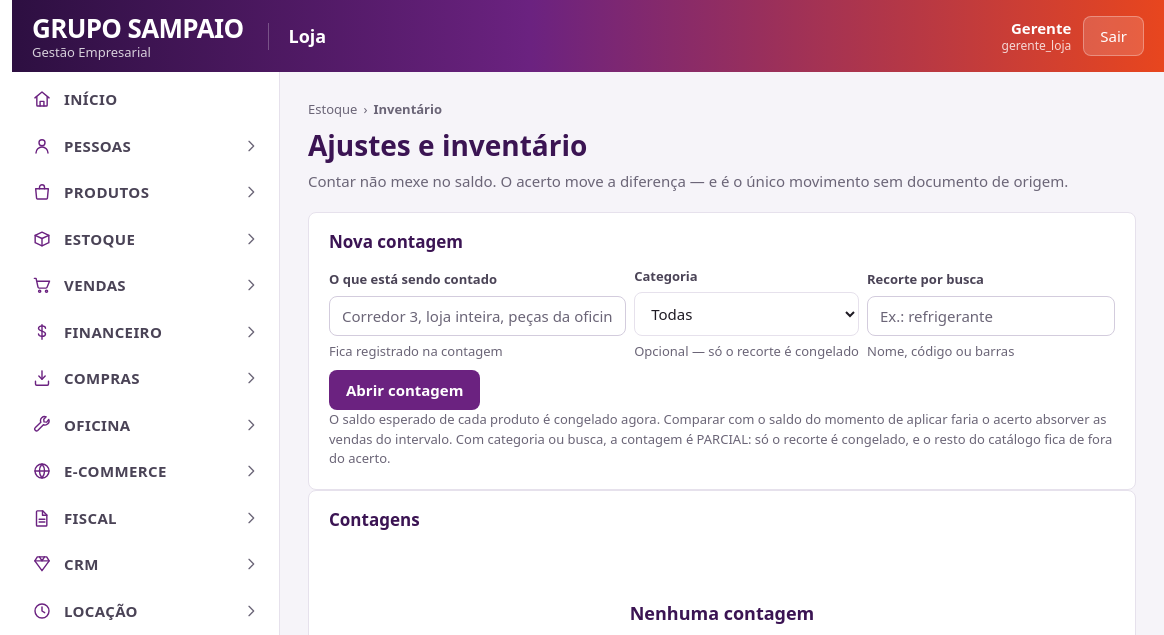
Test: a abertura envia o recorte › categoria e busca viajam no corpo — e a contagem volta só com o recorte
This screenshot has width=1164, height=635.
Expected: the heading "Nova contagem" is shown, x1=329 y1=229 x2=463 y2=254
Select "Bebidas" in the dropdown labelled "Categoria" at (747, 314), box x1=634 y1=292 x2=859 y2=336
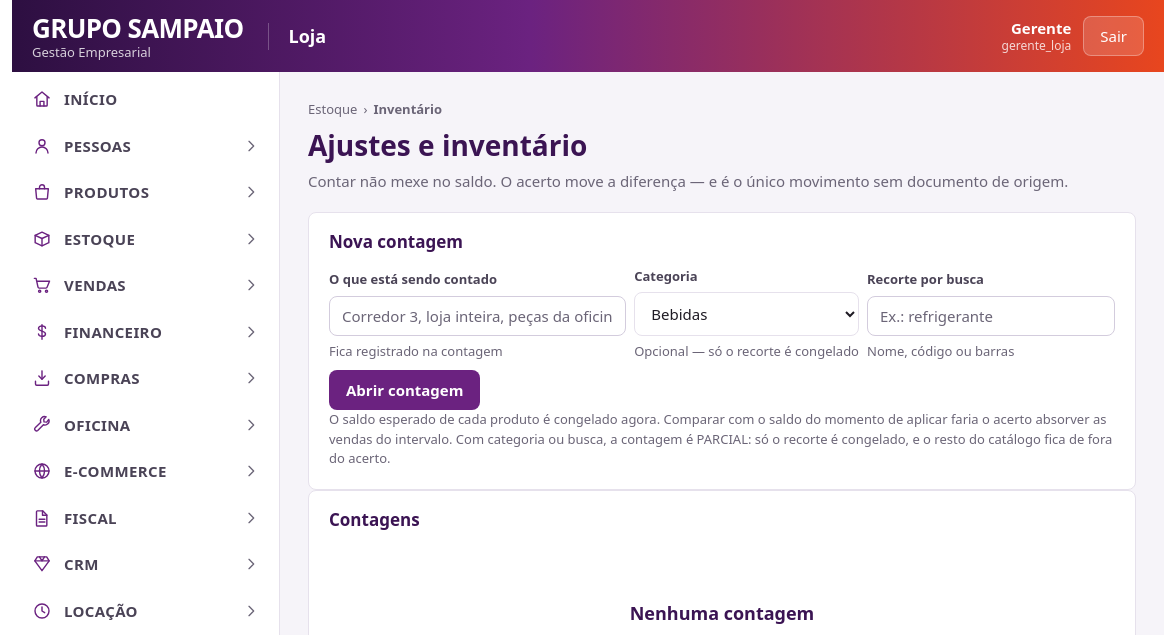
Type "Cola" into the field labelled "Recorte por busca" at (991, 316), box x1=867 y1=296 x2=1115 y2=336
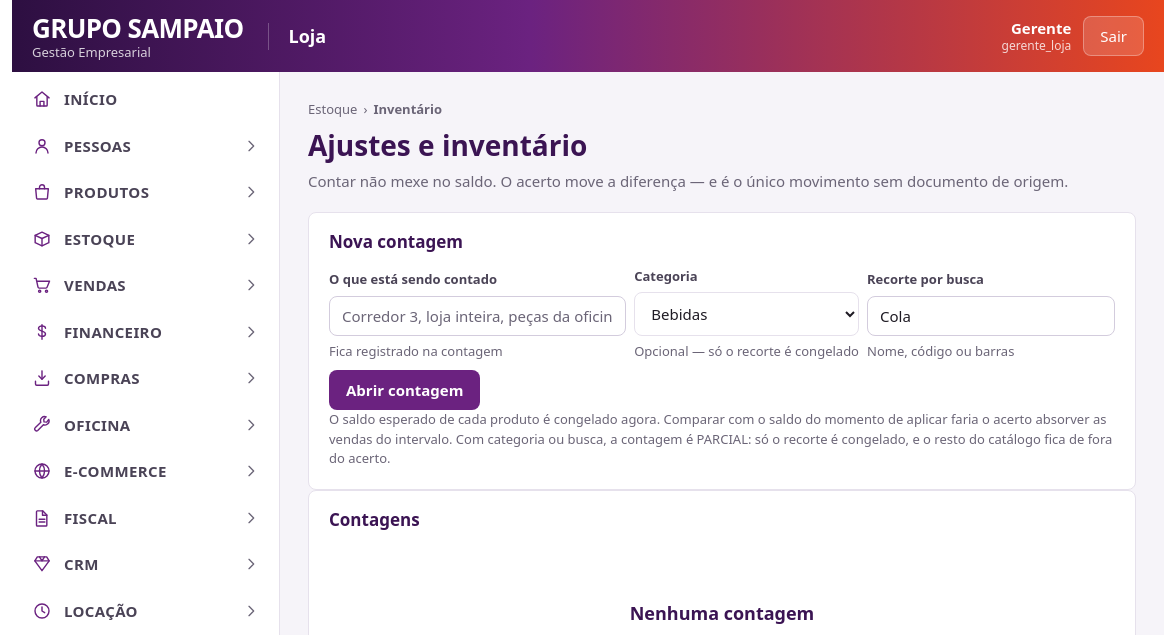
Click the button "Abrir contagem" at (405, 390), box x1=329 y1=370 x2=480 y2=410
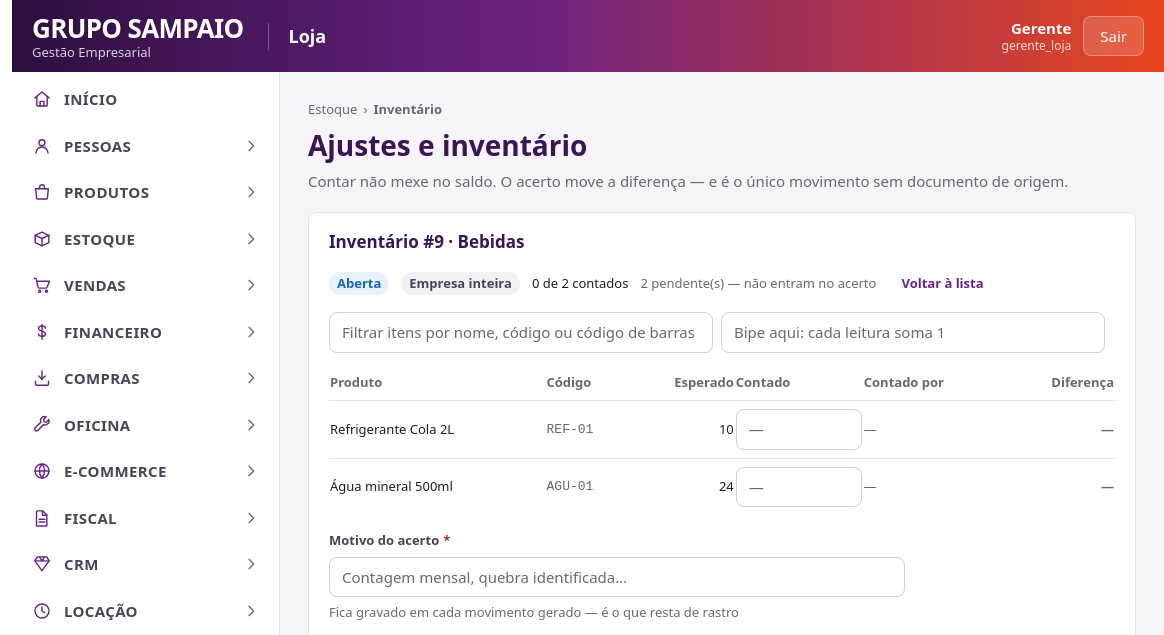
Expected: the text "Refrigerante Cola 2L" is shown, x1=329 y1=400 x2=546 y2=458
